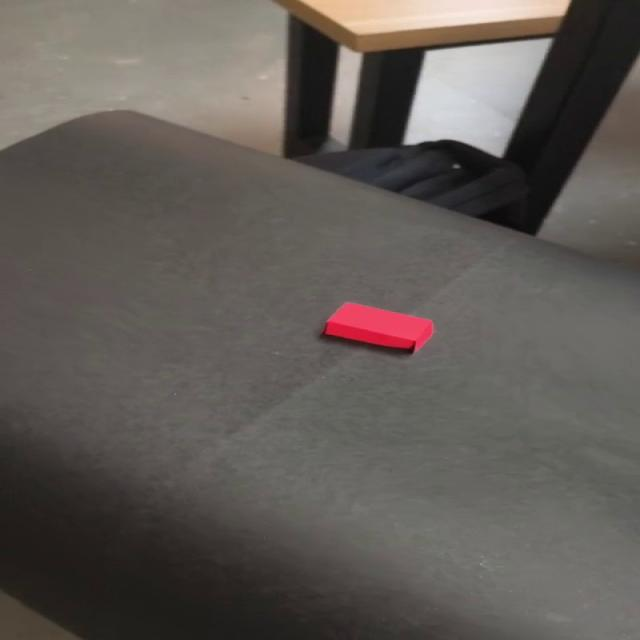red block: (321, 301, 435, 353)
